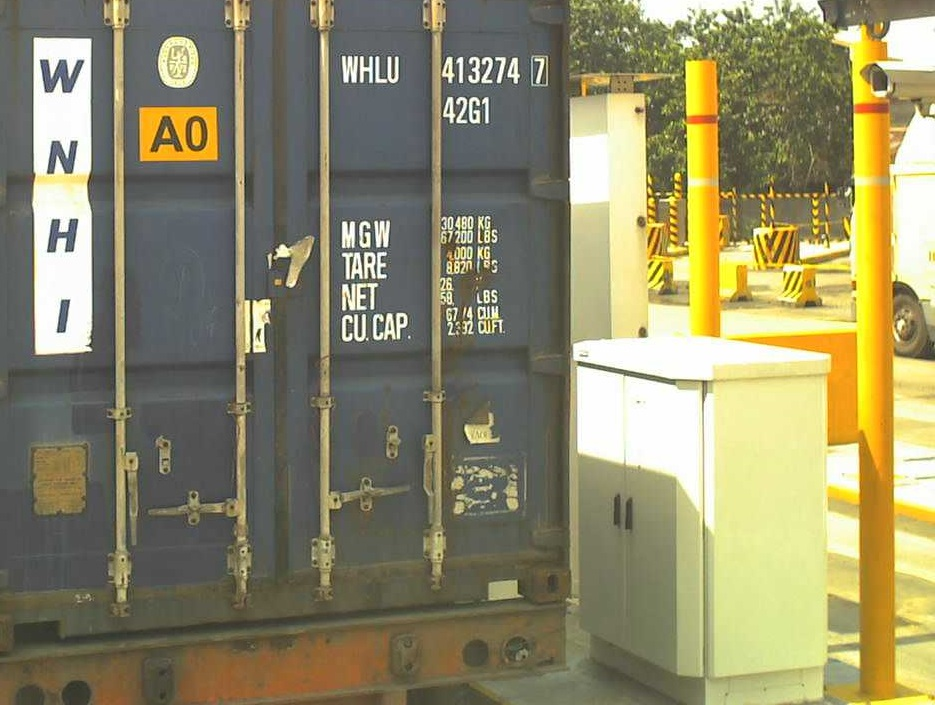container_door: (1, 2, 576, 651)
